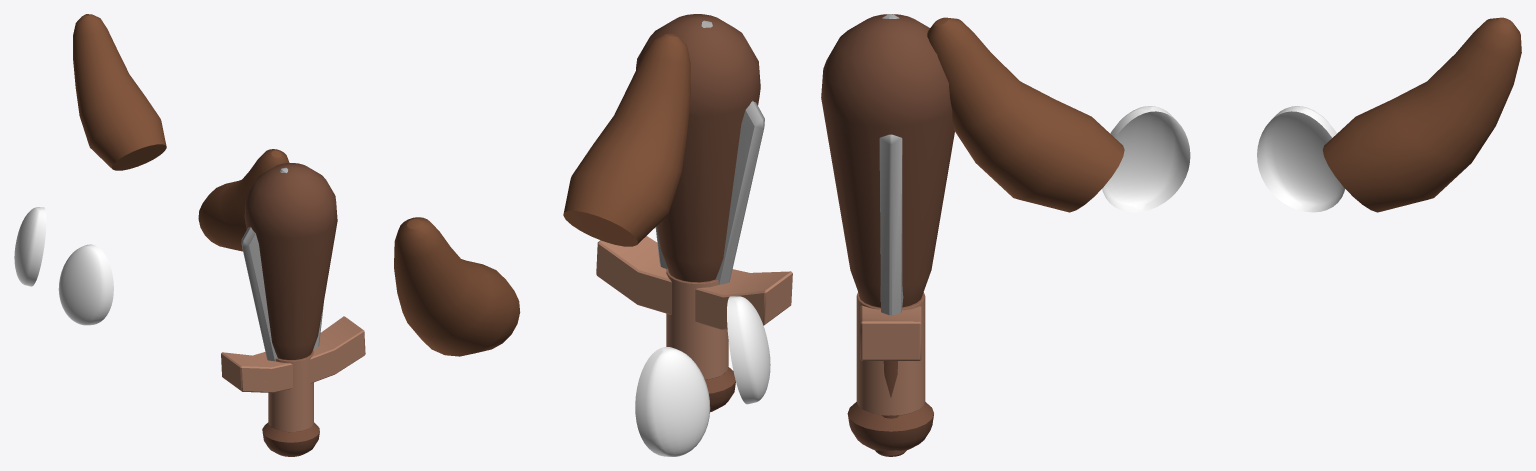
Rendered from MonsterRigids.fbx.
The picture shows the model from 3 angles, left to right: view 1: azimuth 30°, elevation 25°; view 2: azimuth 150°, elevation 25°; view 3: azimuth 270°, elevation 25°; orthographic projection. The views are drawn at different scales.
Parts seen in each view (by area): view 1: Club, polySurface8, Blade, polySurface10, polySurface7, polySurface9; view 2: Club, polySurface7, polySurface8, Blade, polySurface9, polySurface10; view 3: Club, polySurface8, polySurface7, Blade, polySurface10, polySurface9.
Part boxes in pixels (<box>): Club: <box>244,163,337,456</box>; polySurface8: <box>73,14,166,170</box>; Blade: <box>221,167,365,392</box>; polySurface10: <box>58,244,113,325</box>; polySurface7: <box>198,149,289,251</box>; polySurface9: <box>14,207,46,286</box>; Club: <box>636,14,760,412</box>; polySurface7: <box>563,33,690,246</box>; polySurface8: <box>394,217,520,356</box>; Blade: <box>596,20,792,329</box>; polySurface9: <box>635,347,710,456</box>; polySurface10: <box>727,296,770,404</box>; Club: <box>821,14,954,450</box>; polySurface8: <box>1323,17,1521,212</box>; polySurface7: <box>927,17,1124,212</box>; Blade: <box>860,14,921,456</box>; polySurface10: <box>1102,106,1190,212</box>; polySurface9: <box>1257,106,1344,212</box>.
Bounding box in the file's own units: 5.71 × 7.73 × 11.47.
